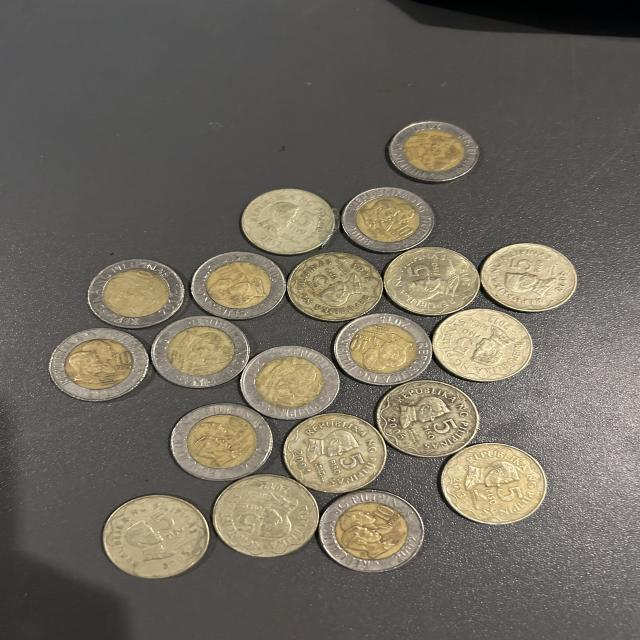10_Old_Front: (319, 494, 417, 570), (338, 312, 431, 382), (341, 186, 434, 250)
5_Old_Front: (387, 392, 462, 446), (297, 425, 369, 476), (300, 265, 368, 306)
